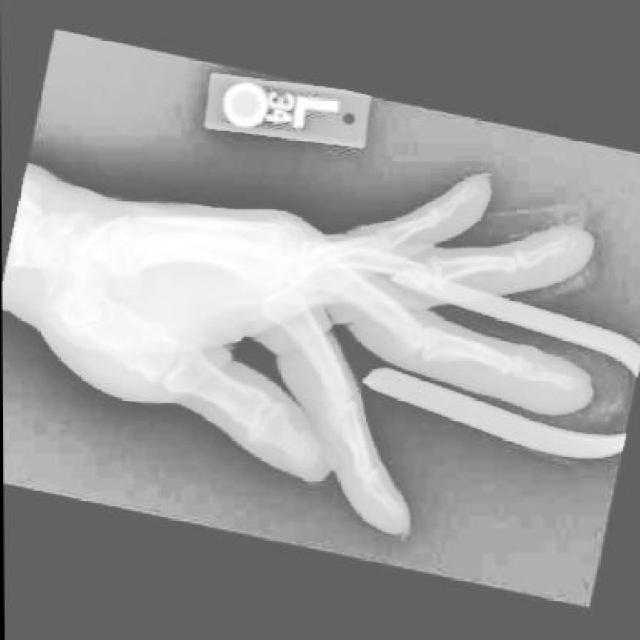Fracture: (508, 349, 584, 402)
